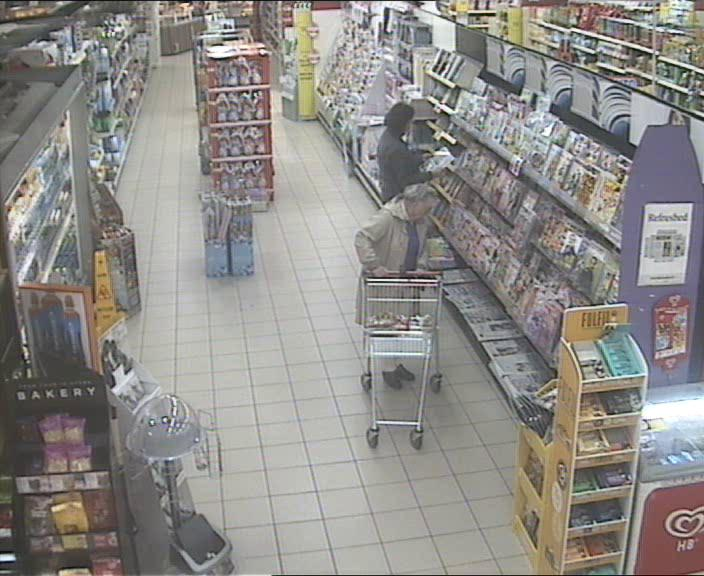filled-trolly: (359, 271, 444, 448)
person: (354, 186, 438, 390)
person-with-filled-basket-trolly: (354, 186, 446, 448)
